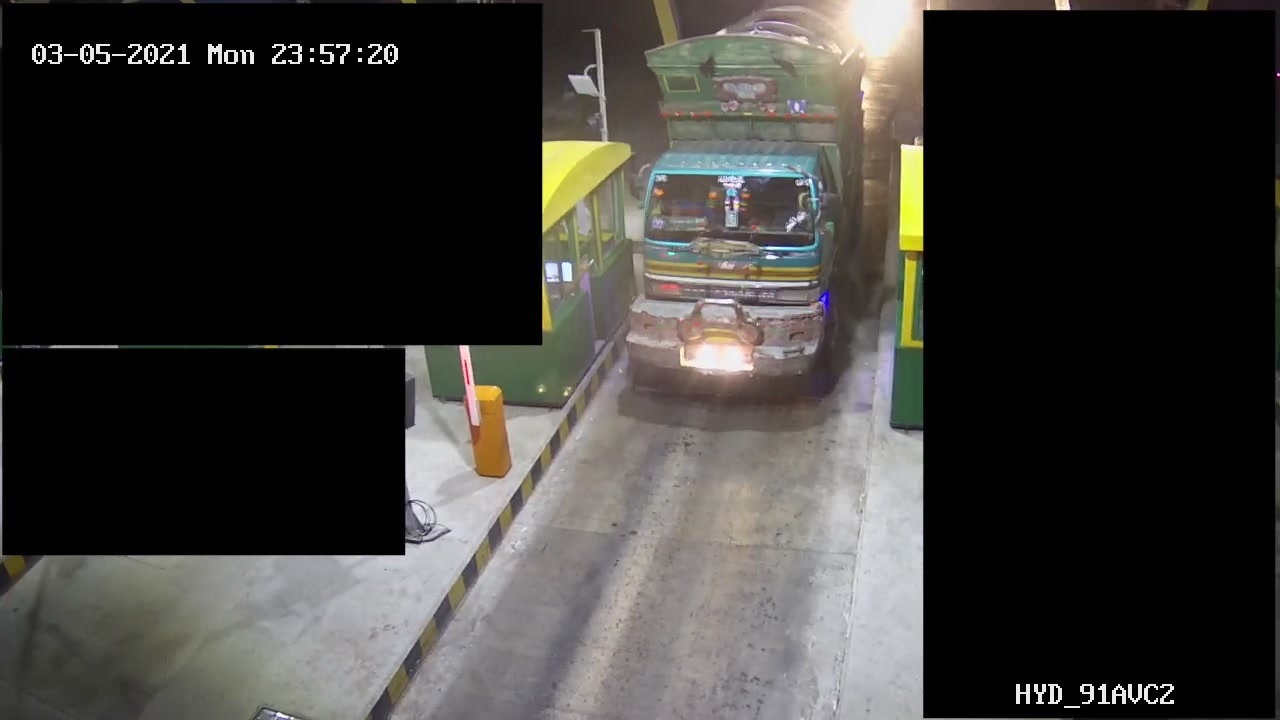F5: (621, 3, 870, 397)
